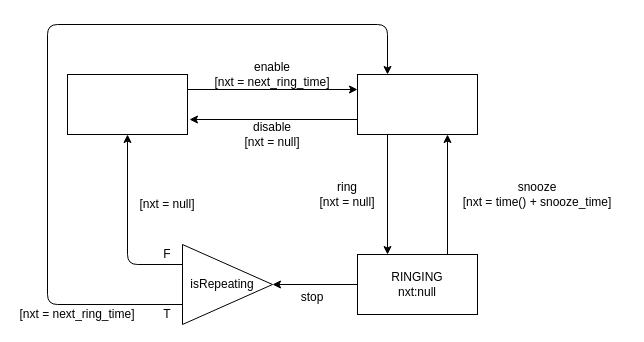
Image size: 644x342. Some labels were removed from this diagram. The shapes that lost their labels are listed below. From the top down, each one's box as (x1, y1, x2, y2) in pixels, then its label:
(66, 74, 188, 134): OFF nxt:null
(356, 74, 478, 134): ON nxt:timestamp
